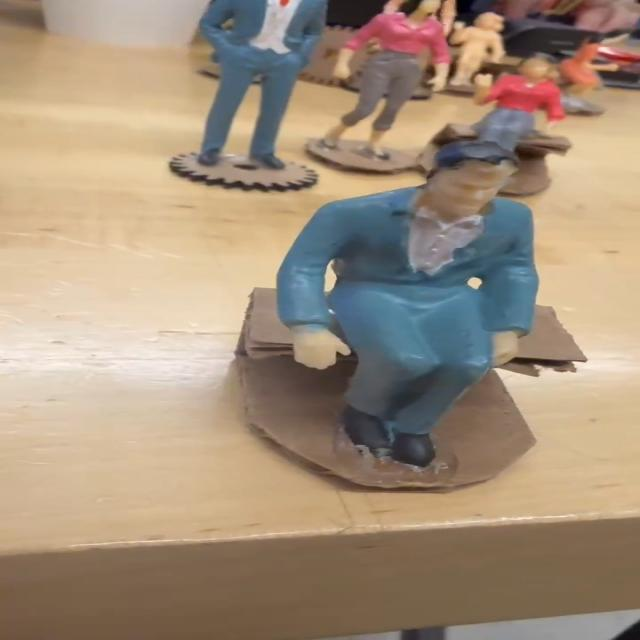Authorized: (281, 135, 551, 470)
